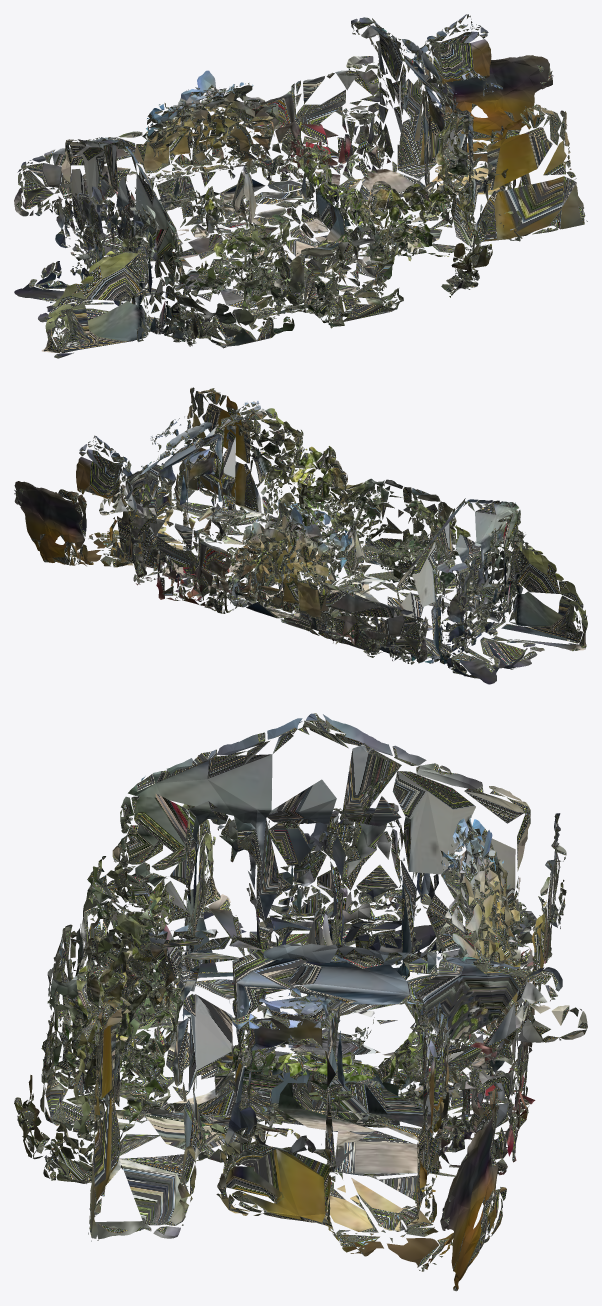
Rendered from garden_simple.obj.
3 renders of one model, top to bottom at view 1: azimuth 30°, elevation 25°; view 2: azimuth 150°, elevation 25°; view 3: azimuth 270°, elevation 25°, orthographic. The views are drawn at different scales.
Size of the model in its own units: 12.12 by 3.9 by 6.4.
1 material, 1 textured.
